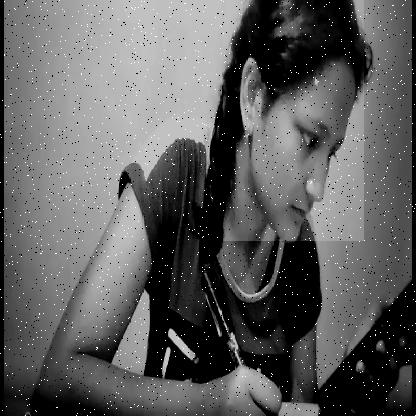Distracted: (223, 0, 364, 241)
